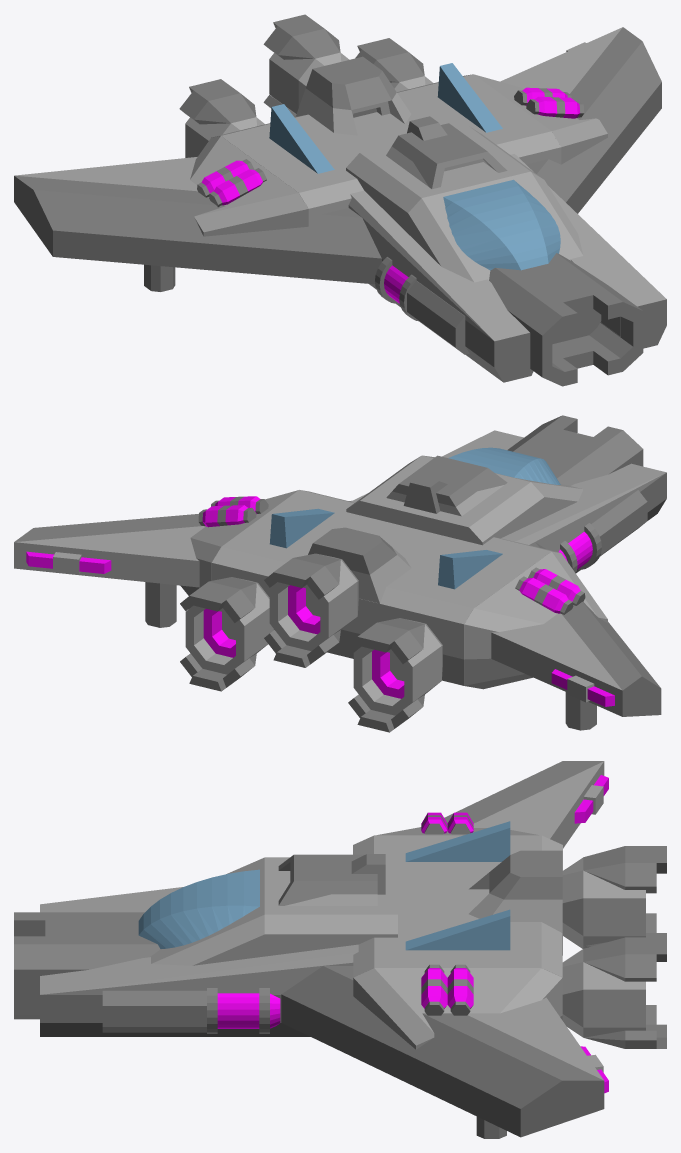
File: Ship Base.fbx
3 views of the same model, one above another, from view 1: azimuth 30°, elevation 25°; view 2: azimuth 150°, elevation 25°; view 3: azimuth 270°, elevation 25° (orthographic). The views are drawn at different scales.
Parts seen in each view (by area): view 1: hull_body; view 2: hull_body; view 3: hull_body.
Boxes of the visible parts, x1,y1,x2,y2 form: hull_body: (14,14,666,386); hull_body: (14,415,666,732); hull_body: (14,761,666,1138).
Bounding box in the file's own units: 724 × 177 × 625.
